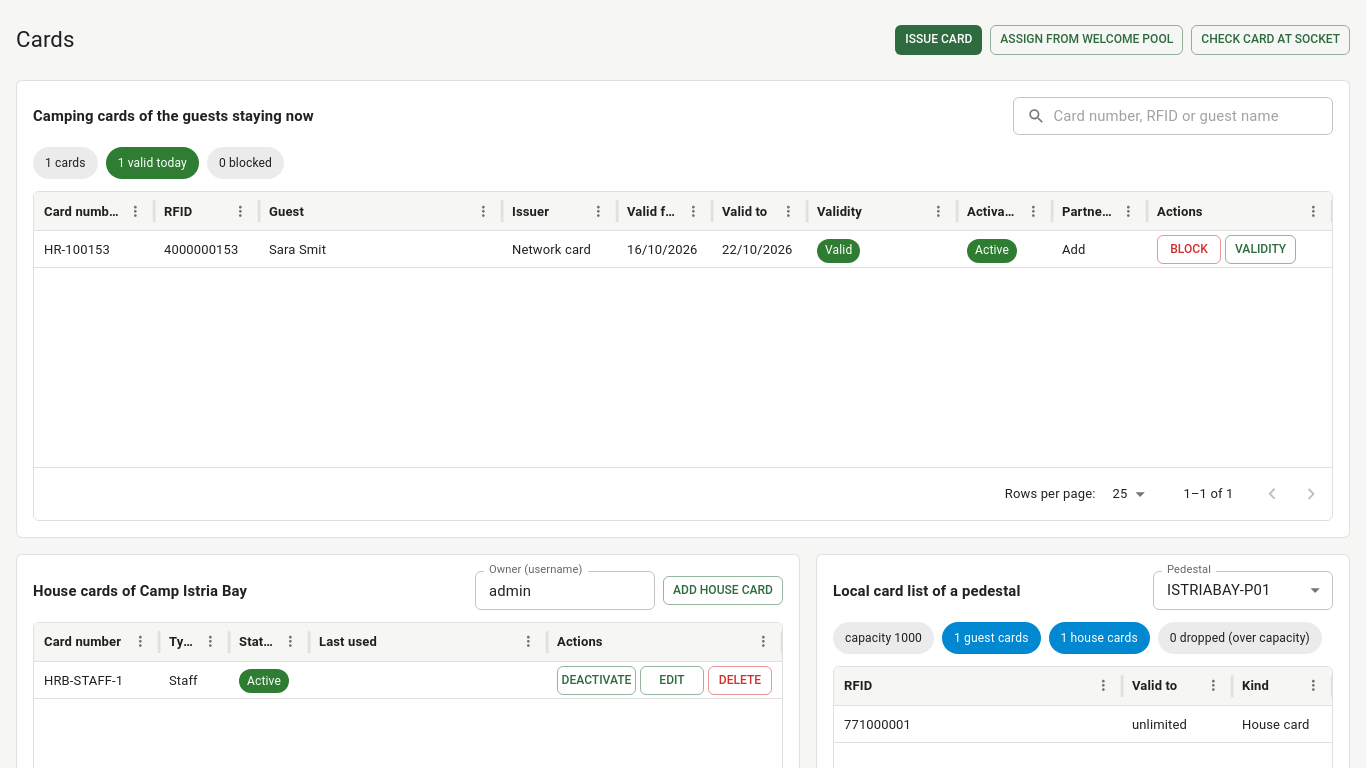
Scenario: cards tab › blocks a card after confirmation
Click the button with test id "block-900000153" at (1189, 250), box x1=1157 y1=235 x2=1221 y2=264
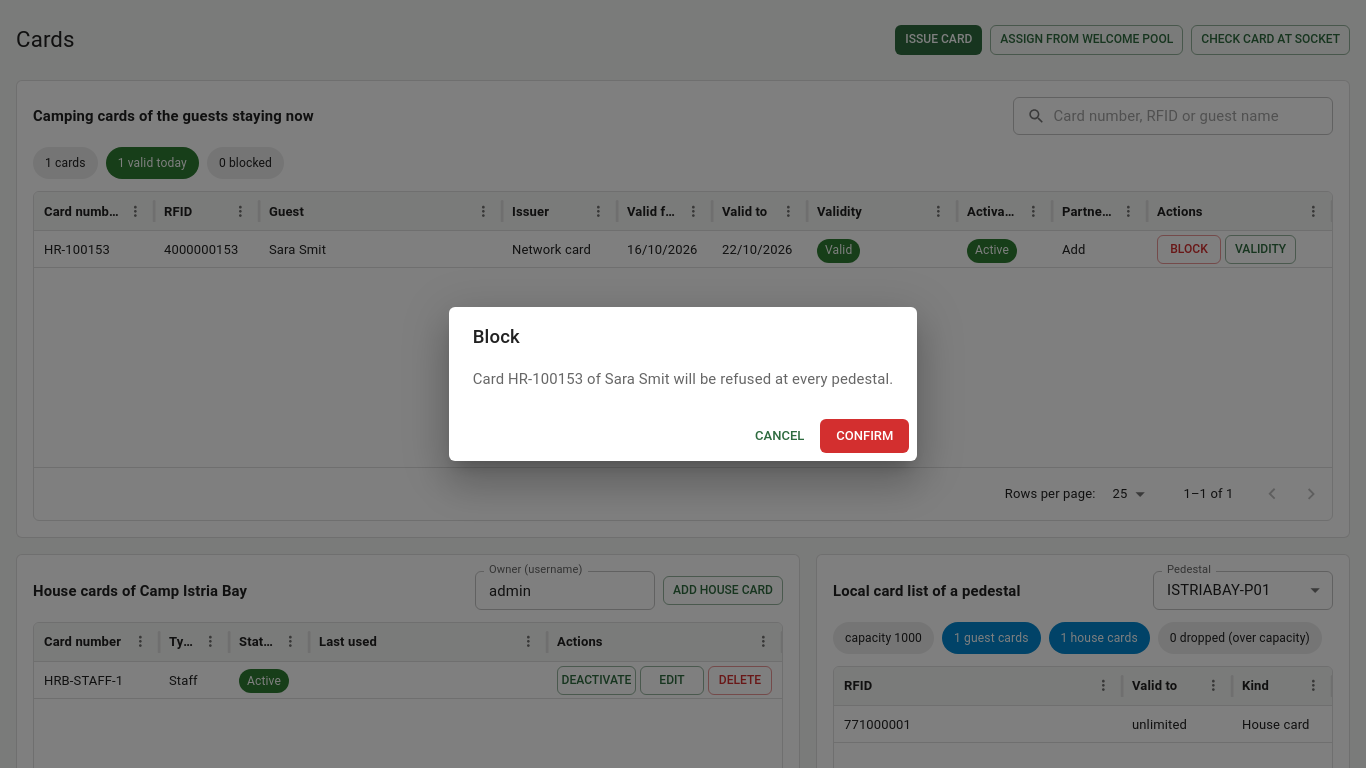
Click the button "Confirm" at (865, 436), box x1=820 y1=419 x2=909 y2=453
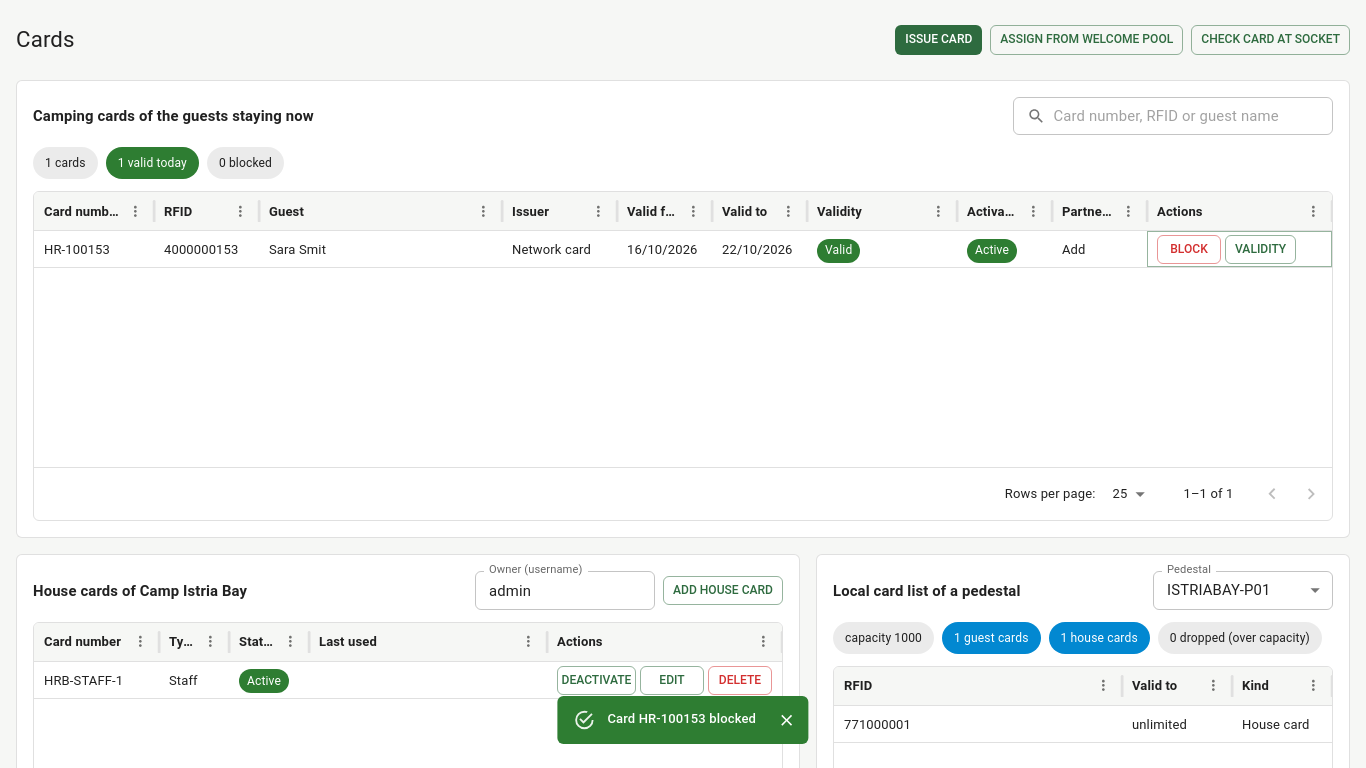
Now the message with test id "notification" reads "Card HR-100153 blocked", box x1=607 y1=711 x2=756 y2=726
